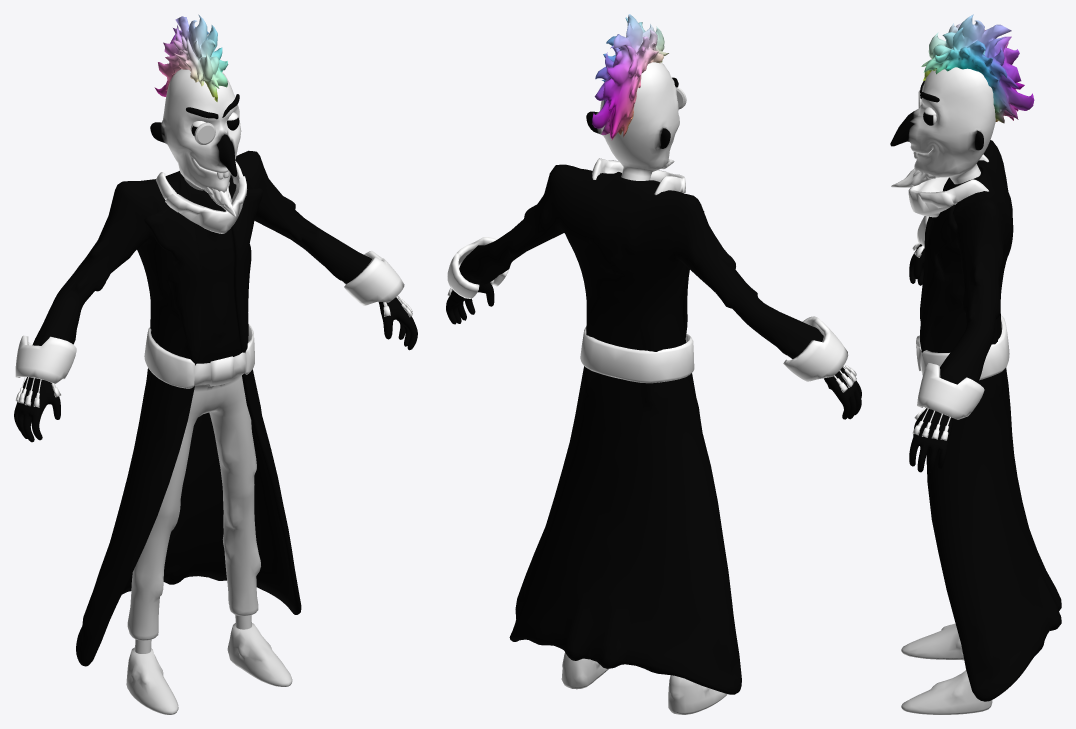
The model's file is CH1_Boss_250517_04.fbx.
3 renders of one model, left to right at view 1: azimuth 30°, elevation 25°; view 2: azimuth 150°, elevation 25°; view 3: azimuth 270°, elevation 25°, orthographic. The views are drawn at different scales.
Visible parts, largest first — view 1: M_MED_Ruckus_Green_LOD0.mo.003, M_MED_Ruckus_Green_LOD0.mo.006, M_MED_EmeraldGlassGreen_LOD0.mo.002; view 2: M_MED_Ruckus_Green_LOD0.mo.003, M_MED_Ruckus_Green_LOD0.mo.006, M_MED_EmeraldGlassGreen_LOD0.mo.002; view 3: M_MED_Ruckus_Green_LOD0.mo.003, M_MED_Ruckus_Green_LOD0.mo.006, M_MED_EmeraldGlassGreen_LOD0.mo.002.
Boxes of the visible parts, <box> form: M_MED_Ruckus_Green_LOD0.mo.003: <box>14,150,417,714</box>; M_MED_Ruckus_Green_LOD0.mo.006: <box>150,14,241,216</box>; M_MED_EmeraldGlassGreen_LOD0.mo.002: <box>156,161,247,233</box>; M_MED_Ruckus_Green_LOD0.mo.003: <box>446,164,861,714</box>; M_MED_Ruckus_Green_LOD0.mo.006: <box>586,14,679,180</box>; M_MED_EmeraldGlassGreen_LOD0.mo.002: <box>592,158,685,194</box>; M_MED_Ruckus_Green_LOD0.mo.003: <box>901,140,1061,714</box>; M_MED_Ruckus_Green_LOD0.mo.006: <box>890,14,1034,187</box>; M_MED_EmeraldGlassGreen_LOD0.mo.002: <box>908,154,988,217</box>.
Bounding box in the file's own units: 120 × 192 × 44.63.
